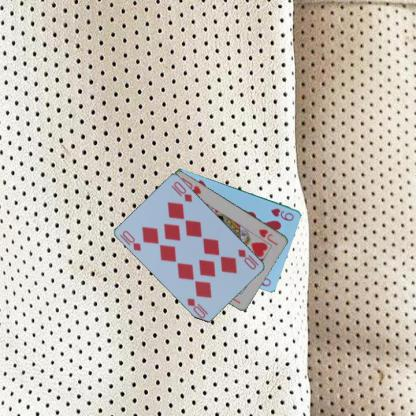10d: (236, 247, 260, 271), (119, 228, 142, 252)
9h: (268, 206, 295, 222)
Jh: (256, 226, 279, 247)
